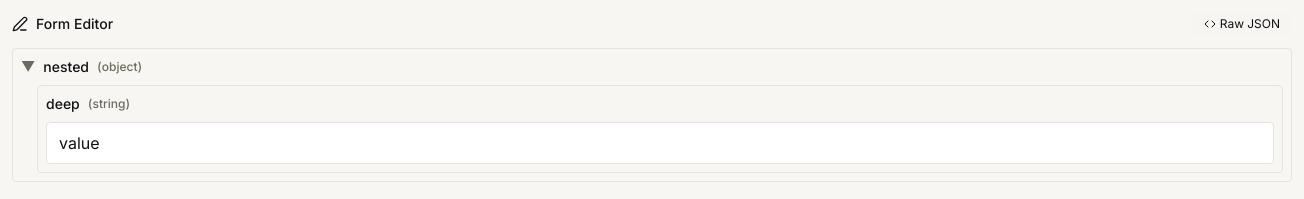
JsonEditor › expands and collapses nested object fields
The image size is (1304, 199).
Expected: the field showing "value" is shown, left=46, top=122, right=1274, bottom=164
What coordinates should you click on to do the following:
click the button "▼ nested (object)"
I would click on:
 (82, 67)
Its box is left=21, top=57, right=142, bottom=77.
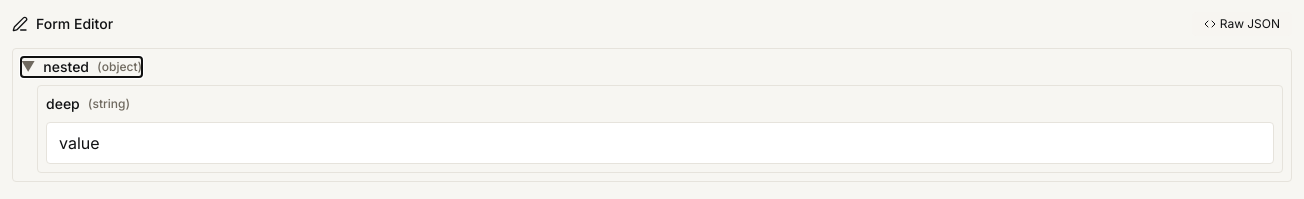
What coordinates should you click on to do the following:
click the button "▼ nested (object)"
I would click on:
 (82, 67)
Its box is left=21, top=57, right=142, bottom=77.
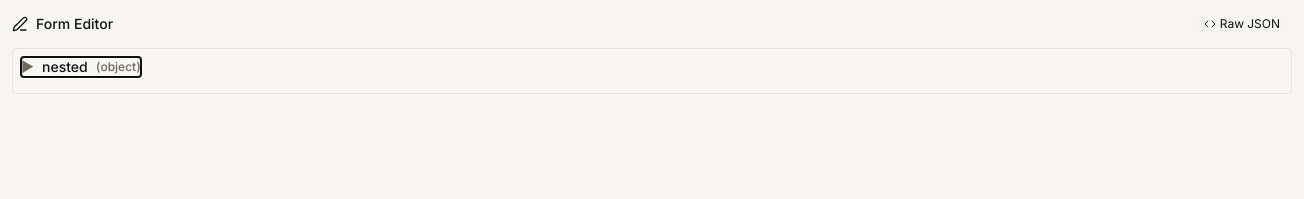
Expected: the text "nested" is shown, left=42, top=57, right=88, bottom=77
Expected: the text "▶" is shown, left=21, top=57, right=34, bottom=77
